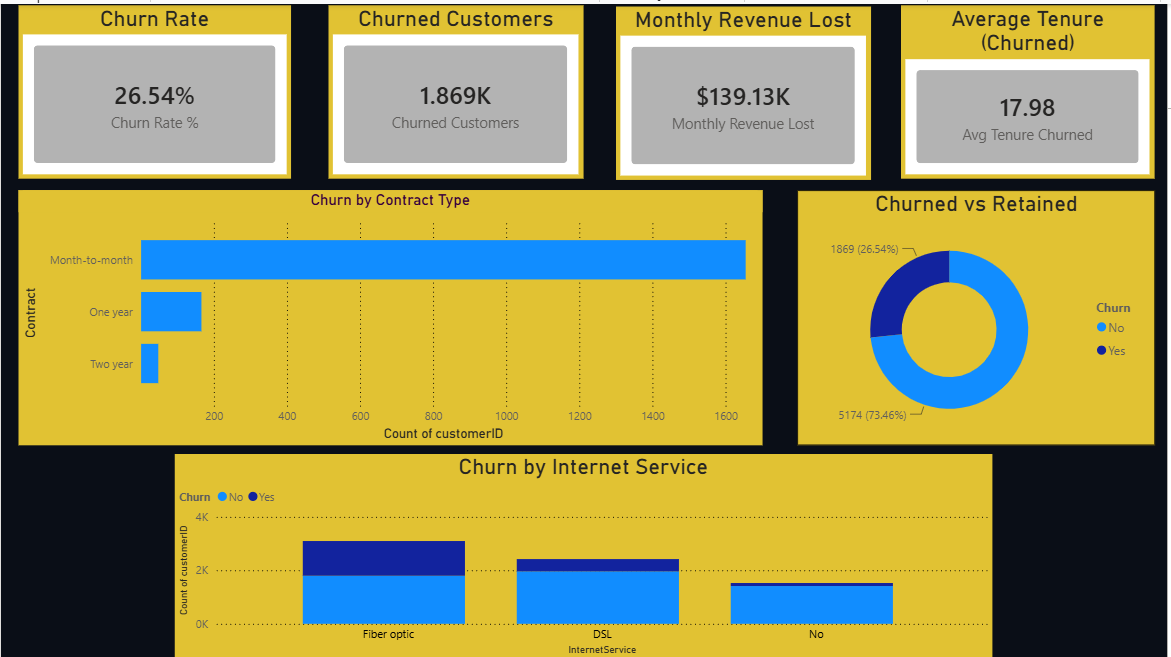

What the dashboard file says about the page in this screenshot:
{"tool":"powerbi","page":{"name":"Executive Overview","canvas":[1280,720],"ordinal":0},"visuals":[{"type":"cardVisual","title":"Churn Rate","fields":{"Data":["telco_churn_cleaned.Churn Rate %"]},"box":[19.2,1.4,299.1,190.7],"z":0},{"type":"cardVisual","title":"Churned Customers","fields":{"Data":["telco_churn_cleaned.Churned Customers"]},"box":[359.5,1.4,279.9,190.7],"z":1000},{"type":"cardVisual","title":"Monthly Revenue Lost","fields":{"Data":["telco_churn_cleaned.Monthly Revenue Lost"]},"box":[675.1,2.7,279.9,190.7],"z":2000},{"type":"cardVisual","title":"Average Tenure (Churned)","fields":{"Data":["telco_churn_cleaned.Avg Tenure Churned"]},"box":[988,1.4,278.6,190.7],"z":3000},{"type":"donutChart","title":"Churned vs Retained","fields":{"Category":["telco_churn_cleaned.Churn"],"Y":["CountNonNull(telco_churn_cleaned.customerID)"]},"box":[874.1,204.5,392.5,279.9],"z":4000},{"type":"clusteredBarChart","title":"Churn by Contract Type","fields":{"Category":["telco_churn_cleaned.Contract"],"Y":["CountNonNull(telco_churn_cleaned.customerID)"]},"box":[19.2,204.5,816.5,279.9],"z":5000},{"type":"columnChart","title":"Churn by Internet Service","fields":{"Category":["telco_churn_cleaned.InternetService"],"Series":["telco_churn_cleaned.Churn"],"Y":["CountNonNull(telco_churn_cleaned.customerID)"]},"box":[190.7,494,897.4,226.4],"z":6000}]}

Visuals, with their boxes in screenshot pixels (x1, y1, x2, y2), scaled from the page's 1280x720 canvas onto the 1171x657 screenshot:
"Churn Rate" cardVisual: pyautogui.locateOnScreen(18, 1, 291, 175)
"Churned Customers" cardVisual: pyautogui.locateOnScreen(329, 1, 585, 175)
"Monthly Revenue Lost" cardVisual: pyautogui.locateOnScreen(618, 2, 874, 176)
"Average Tenure (Churned)" cardVisual: pyautogui.locateOnScreen(904, 1, 1159, 175)
"Churned vs Retained" donutChart: pyautogui.locateOnScreen(800, 187, 1159, 442)
"Churn by Contract Type" clusteredBarChart: pyautogui.locateOnScreen(18, 187, 765, 442)
"Churn by Internet Service" columnChart: pyautogui.locateOnScreen(174, 451, 995, 656)
